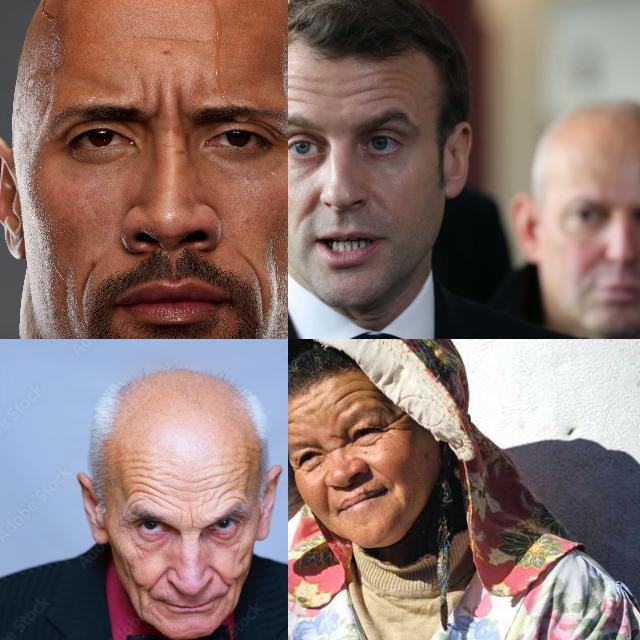crows_feet: (382, 414, 408, 436)
forehead: (357, 70, 403, 104), (223, 462, 249, 502), (156, 472, 178, 510), (126, 471, 152, 502), (288, 68, 308, 108), (331, 383, 369, 402), (190, 474, 220, 498), (294, 395, 324, 417)
frown_line: (141, 82, 191, 128), (186, 510, 200, 532), (325, 441, 345, 455)
gummy_smile: (146, 564, 168, 590), (370, 458, 392, 482), (321, 482, 333, 520), (212, 564, 228, 588)
masseter: (226, 580, 242, 606), (122, 558, 138, 580)
sad_smile: (238, 252, 274, 318), (76, 266, 98, 318)
